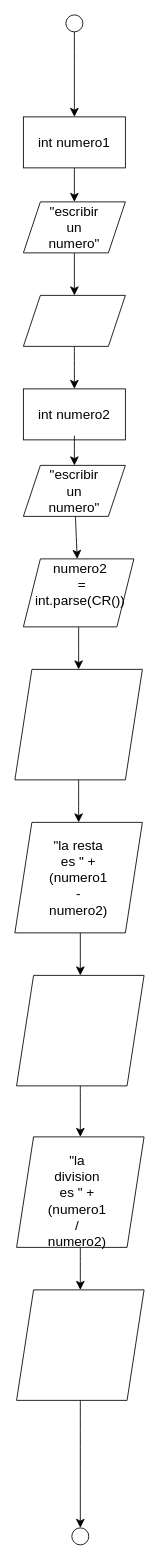
Image size: 159x1560. Some labels were removed from this diagram. The centre of each missing label's shape, as x and y in pixels:
"el resto es " + (numero1 % numero2): pixel 80 1344
"la multiplicacion es " + (numero1 * numero2): pixel 80 1030
"la suma es " + (numero1 + numero2): pixel 78 724
numero = int.parse(CR()): pixel 74 320
